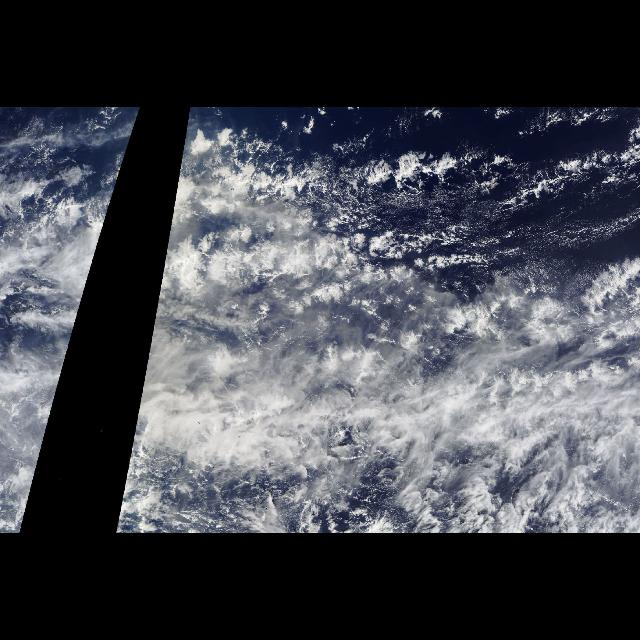Gravel: (254, 130, 614, 268)
